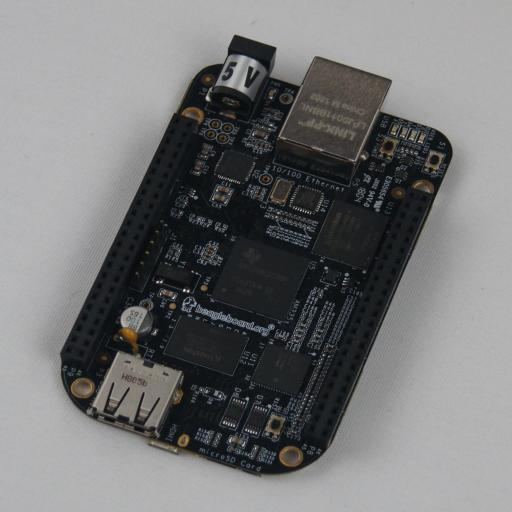Beaglebone Black: (60, 35, 452, 477)
